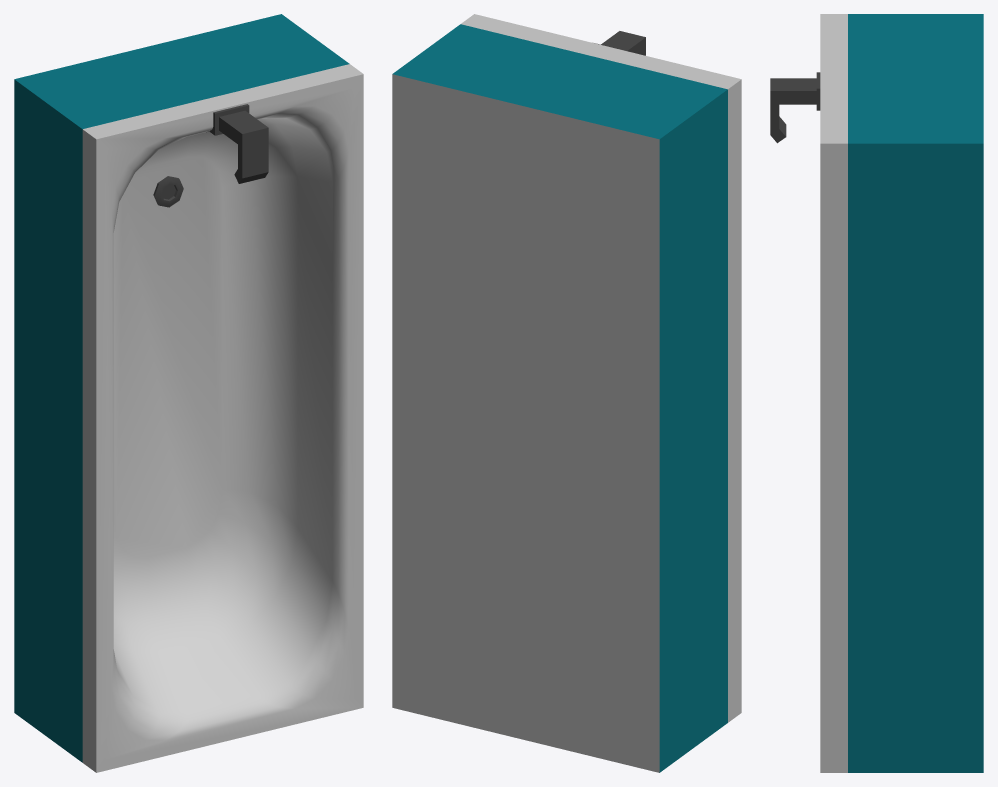
Rendered from bathtub.glb.
3 renders of one model, left to right at view 1: azimuth 30°, elevation 25°; view 2: azimuth 150°, elevation 25°; view 3: azimuth 270°, elevation 25°, orthographic.
Parts seen in each view (by area): view 1: bathtub; view 2: bathtub; view 3: bathtub.
Boxes of the visible parts, x1,y1,x2,y2 form: bathtub: (14,14,363,772); bathtub: (392,14,741,772); bathtub: (770,14,983,772).
Size of the model in its own units: 1.05 by 2.38 by 0.7305.
